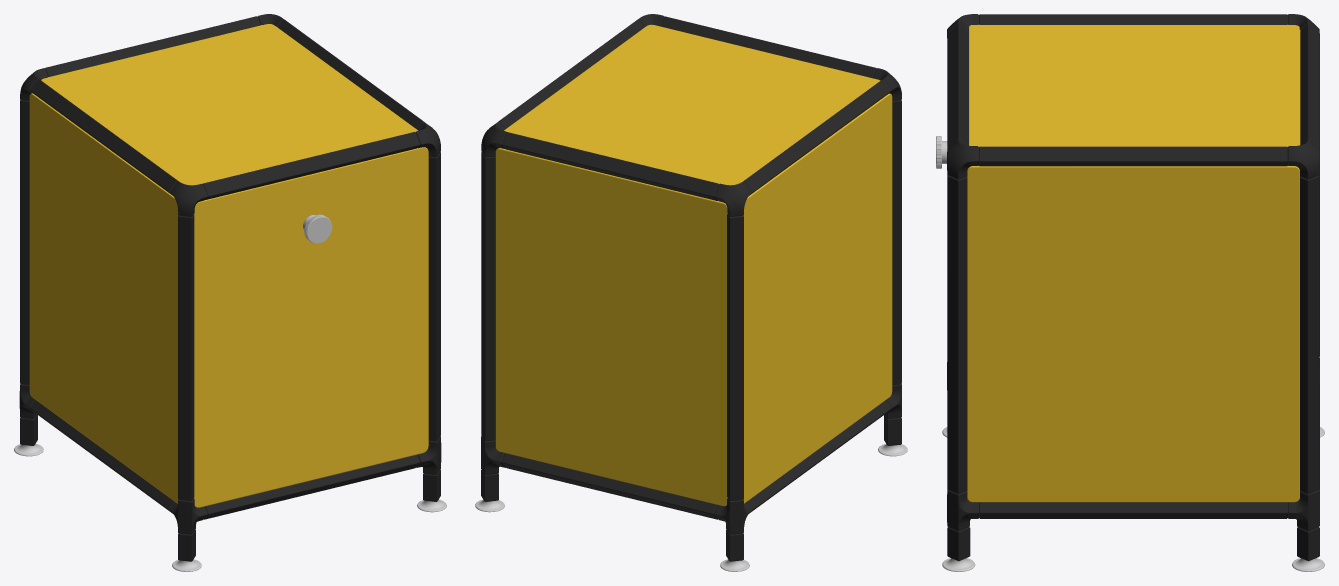
3 renders of one model, left to right at view 1: azimuth 30°, elevation 25°; view 2: azimuth 150°, elevation 25°; view 3: azimuth 270°, elevation 25°, orthographic. The views are drawn at different scales.
Visible parts, largest first — view 1: 329x374x420; view 2: 329x374x420; view 3: 329x374x420.
Part boxes in pixels (bbox=[...]): 329x374x420: bbox=[14, 14, 446, 571]; 329x374x420: bbox=[475, 14, 907, 571]; 329x374x420: bbox=[936, 14, 1324, 571].
Size of the model in its own units: 0.4189 by 0.5593 by 0.4708.
